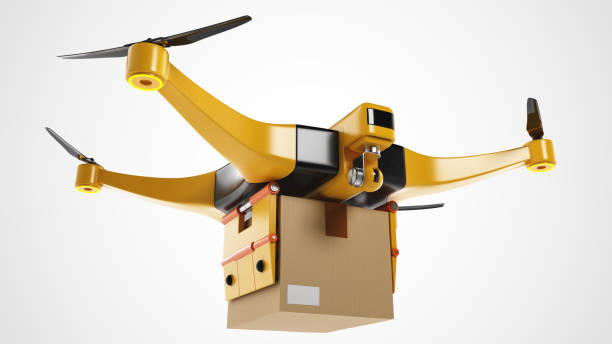Drone: (31, 10, 558, 221)
